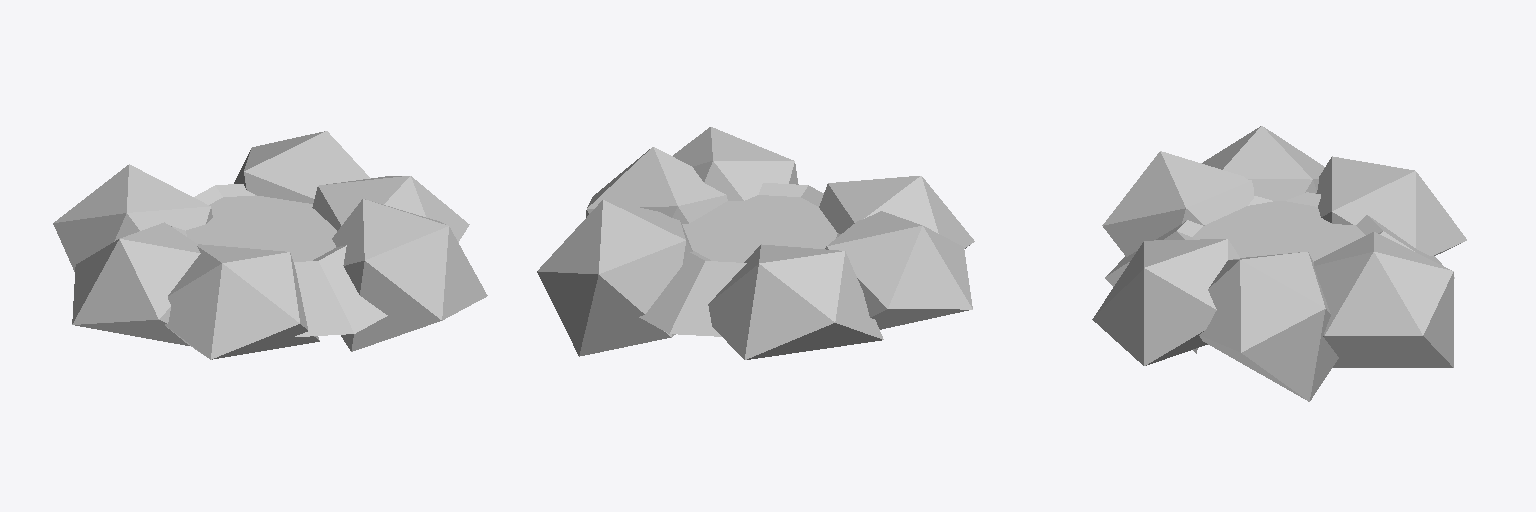
File: pestBase.obj
3 renders of one model, left to right at view 1: azimuth 30°, elevation 25°; view 2: azimuth 150°, elevation 25°; view 3: azimuth 270°, elevation 25°, orthographic.
Visible parts, largest first — view 1: Icosphere, Cylinder, Cylinder.001; view 2: Icosphere, Cylinder, Cylinder.001; view 3: Icosphere, Cylinder, Cylinder.001.
Part boxes in pixels (left/top/right/bottom): Icosphere: left=53, top=131, right=487, bottom=359; Cylinder: left=186, top=195, right=336, bottom=261; Cylinder.001: left=171, top=184, right=387, bottom=336; Icosphere: left=537, top=127, right=974, bottom=359; Cylinder: left=682, top=195, right=837, bottom=262; Cylinder.001: left=639, top=183, right=840, bottom=336; Icosphere: left=1092, top=126, right=1466, bottom=401; Cylinder: left=1192, top=201, right=1365, bottom=261; Cylinder.001: left=1105, top=192, right=1454, bottom=286.
Bounding box in the file's own units: 4.78 × 1.46 × 4.